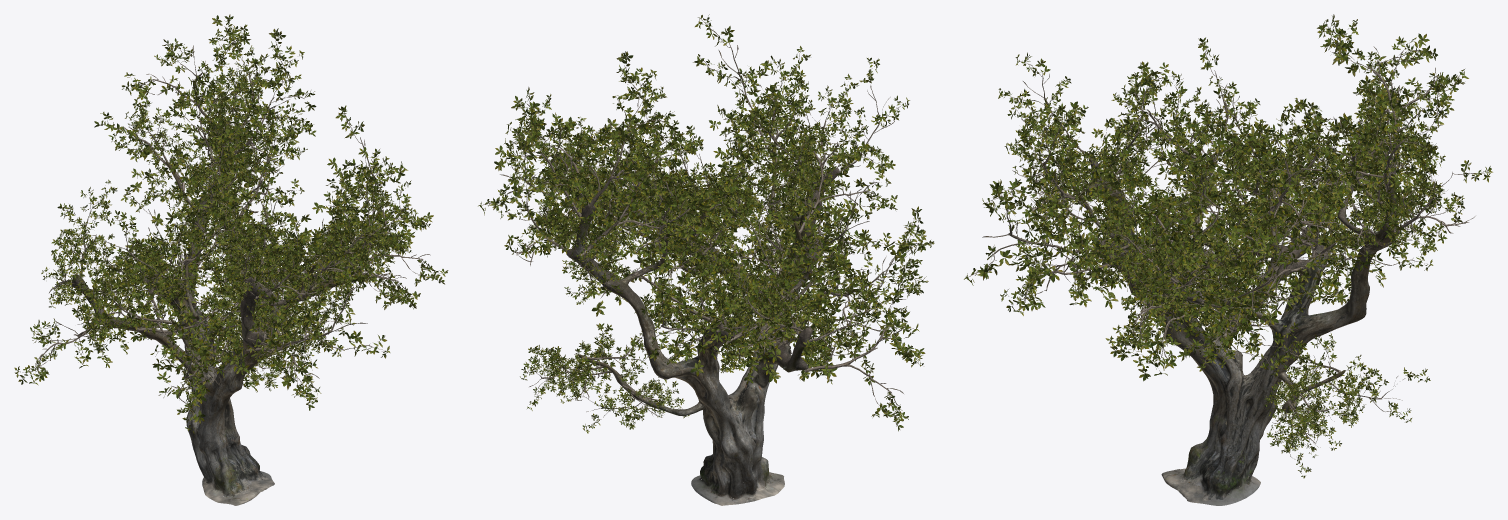
File: island_tree_01.gltf
3 views of the same model, side by side, from view 1: azimuth 30°, elevation 25°; view 2: azimuth 150°, elevation 25°; view 3: azimuth 270°, elevation 25° (orthographic). The views are drawn at different scales.
Visible parts, largest first — view 1: island_tree_01_LOD0; view 2: island_tree_01_LOD0; view 3: island_tree_01_LOD0.
Part boxes in pixels (x1,y1,x2,y2): island_tree_01_LOD0: (14, 14, 448, 505); island_tree_01_LOD0: (478, 14, 934, 505); island_tree_01_LOD0: (964, 14, 1492, 505).
Bounding box in the file's own units: 4.76 × 5.03 × 4.82.
3 materials, 3 textured.
